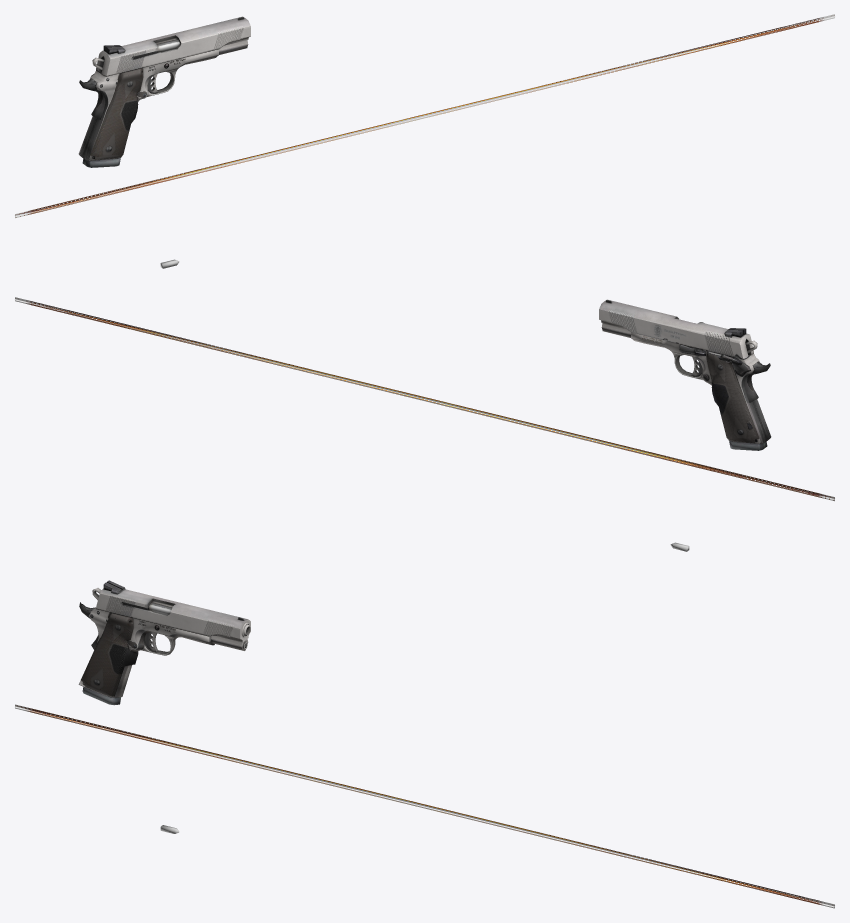
File: Handgun_Game_Blender Gamer Engine.fbx
3 views of the same model, one above another, from view 1: azimuth 30°, elevation 25°; view 2: azimuth 150°, elevation 25°; view 3: azimuth 330°, elevation 25° (orthographic).
Parts seen in each view (by area): view 1: Gun, Cube_005, bullet; view 2: Gun, Cube_005, bullet; view 3: Gun, Cube_005, bullet.
Part boxes in pixels (x1,y1,x2,y2): Gun: [78, 37, 218, 160]; Cube_005: [96, 16, 250, 76]; bullet: [14, 14, 835, 218]; Gun: [631, 319, 771, 443]; Cube_005: [599, 299, 753, 359]; bullet: [14, 297, 835, 501]; Gun: [78, 588, 250, 697]; Cube_005: [96, 580, 250, 650]; bullet: [14, 704, 835, 908].
Size of the model in its own units: 9.03 by 2.47 by 0.2514.
